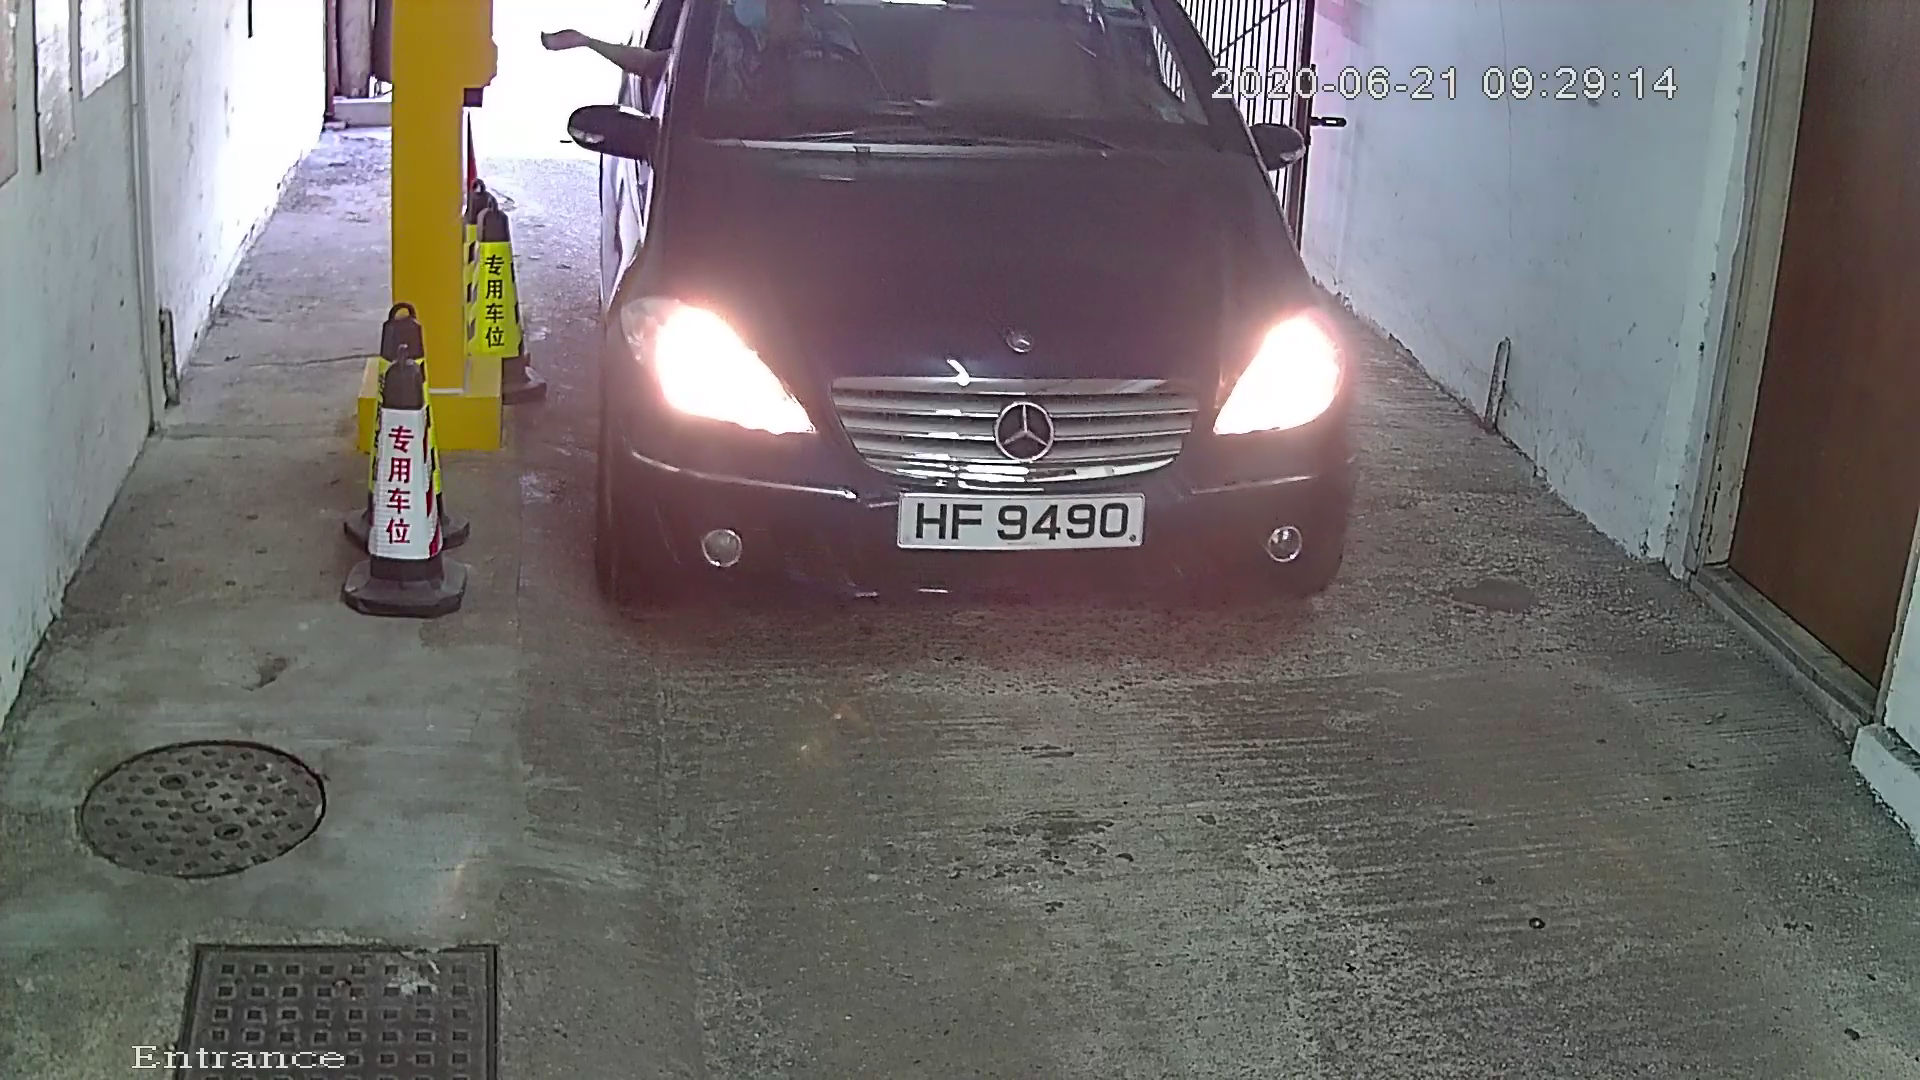privatecar: (527, 3, 1439, 644)
